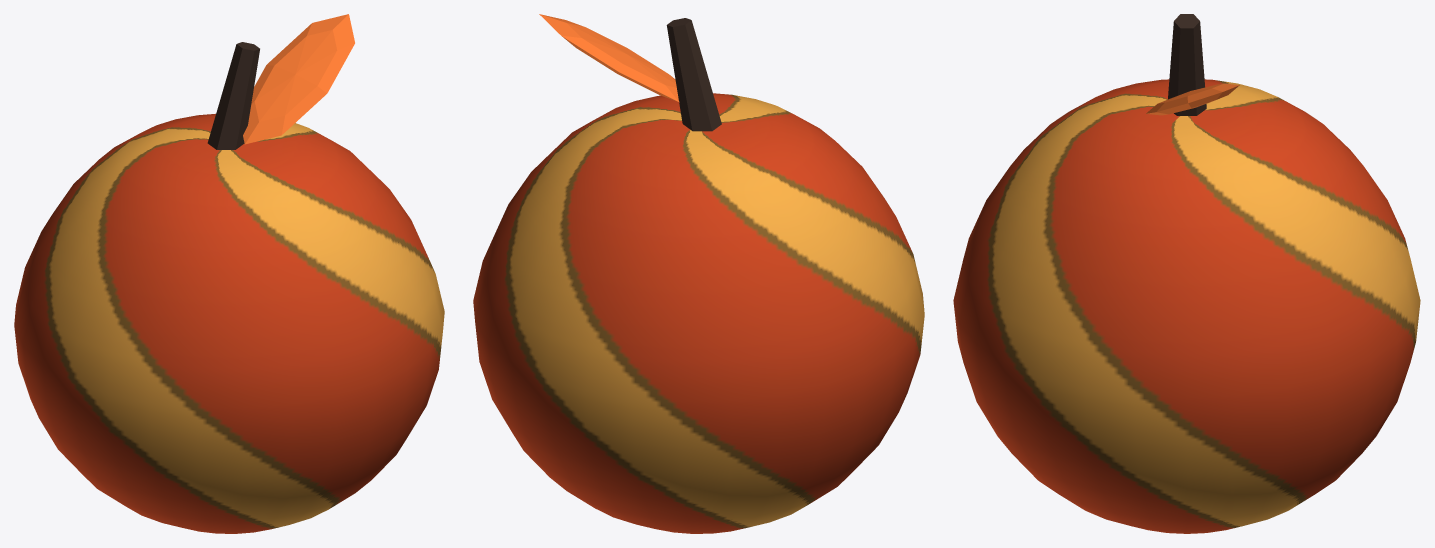
File: Fruit_Cinder.fbx
3 renders of one model, left to right at view 1: azimuth 30°, elevation 25°; view 2: azimuth 150°, elevation 25°; view 3: azimuth 270°, elevation 25°, orthographic. The views are drawn at different scales.
Parts seen in each view (by area): view 1: Fruit_Cinder; view 2: Fruit_Cinder; view 3: Fruit_Cinder.
Boxes of the visible parts, bbox=[...] form: Fruit_Cinder: bbox=[14, 14, 444, 533]; Fruit_Cinder: bbox=[473, 14, 924, 533]; Fruit_Cinder: bbox=[953, 14, 1420, 533].
Bounding box in the file's own units: 1.6 × 1.9 × 1.6.
1 material, 1 textured.
